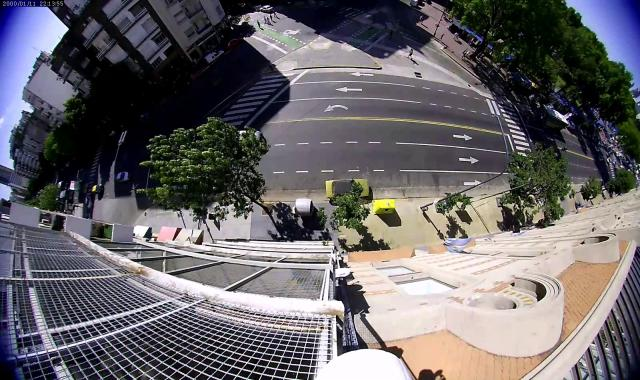bus: (533, 105, 568, 132), (70, 180, 88, 193), (60, 190, 74, 200), (57, 181, 68, 190)
car: (326, 178, 369, 198), (205, 50, 224, 64), (226, 37, 243, 50), (117, 172, 131, 182), (91, 184, 104, 194), (85, 196, 93, 209), (566, 121, 576, 130), (260, 6, 273, 12), (580, 130, 588, 137), (594, 146, 601, 152), (598, 155, 604, 161), (606, 158, 612, 164), (613, 160, 617, 166), (606, 153, 610, 157)
